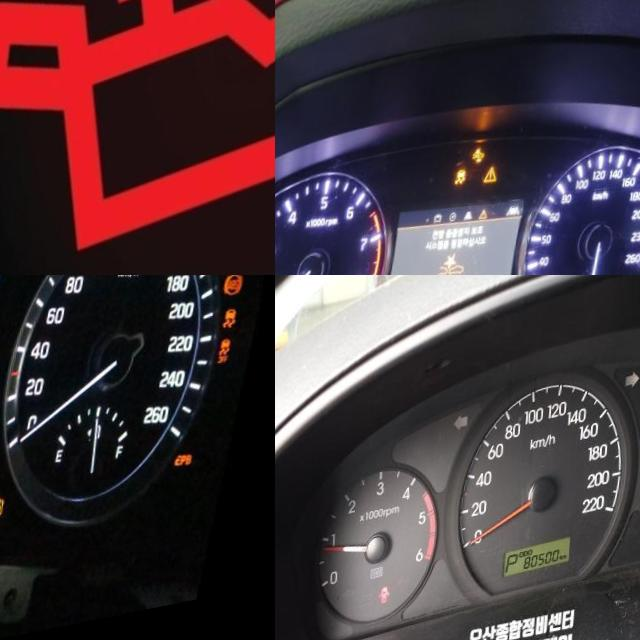Central Warning lamp: (486, 178, 502, 199)
Low fuel level: (0, 511, 14, 535)
